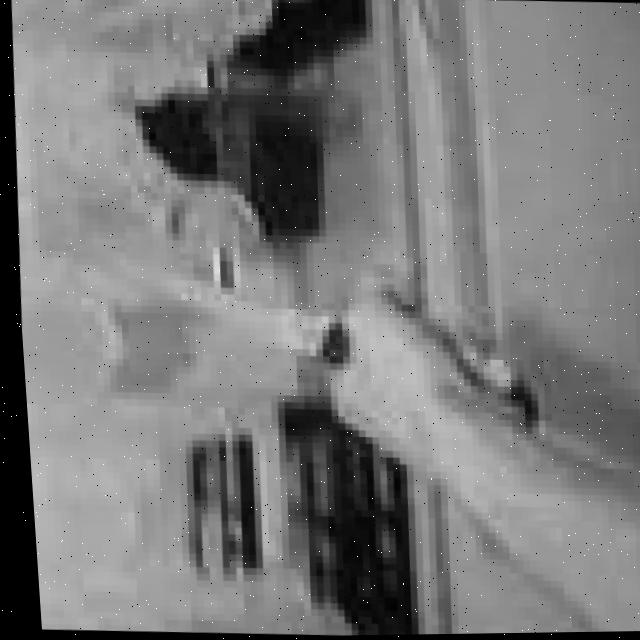knife: (99, 250, 341, 368)
